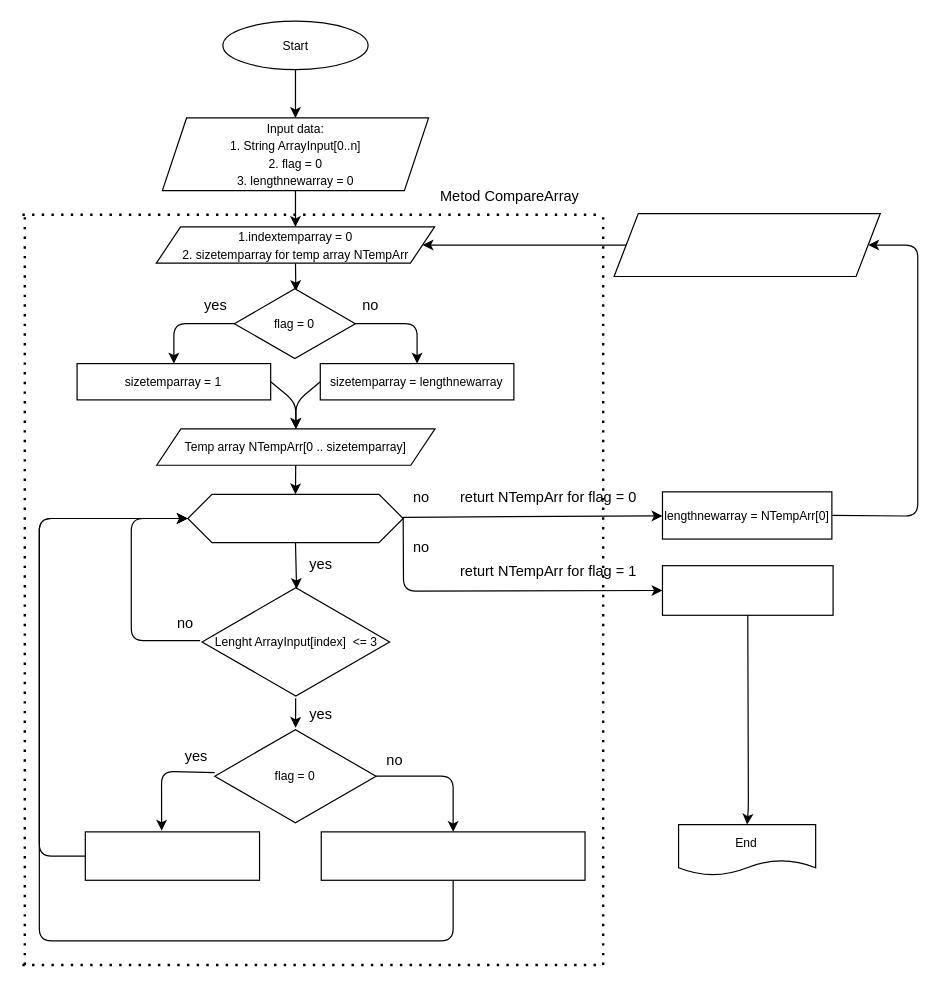
Image size: 949x989. Some labels were removed from this diagram. Here are the shapes that lost their labels. From the top down, the centre of each, then its label:
At pixel 746 244: "Input new data: 1. String ArrayOut[0..lengthnewarray] 2. flag =1".
At pixel 295 518: "index := 0 ... Lenght of ArrayInput".
At pixel 747 589: "ArrayOut = NTempArr".
At pixel 172 855: "lenghtnewarray += 1 NTempArr [0] = lenghtnewarray".
At pixel 452 855: "NTempArr[indextemparray] = ArrayInput[index] indextemparray += 1".
